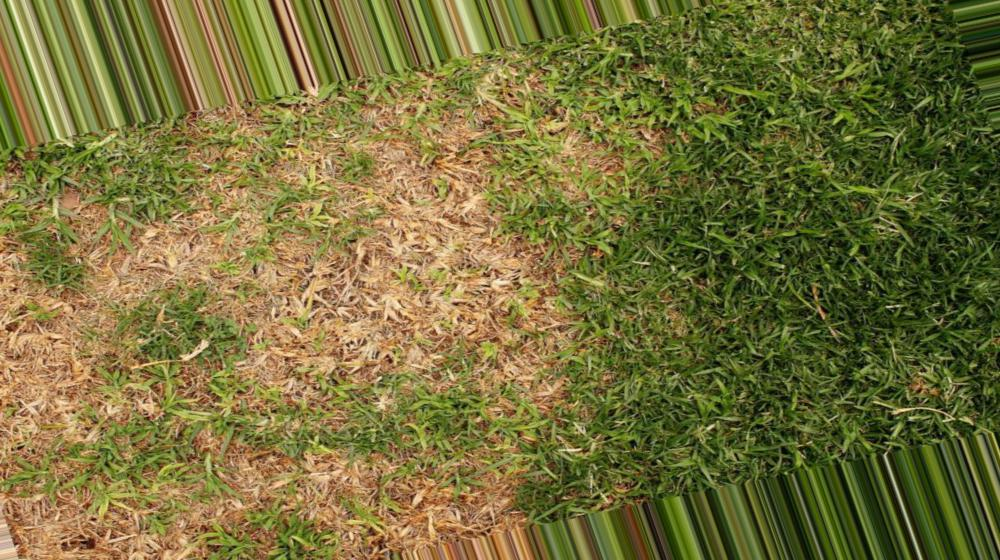patch: (294, 246, 522, 408), (315, 432, 471, 560), (34, 344, 134, 451), (360, 147, 496, 213), (166, 230, 273, 310), (70, 495, 198, 536), (236, 440, 292, 491)
